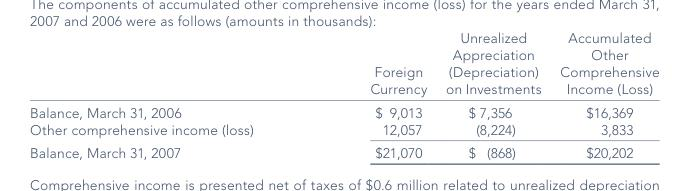table: (29, 29, 658, 160)
table column: (29, 29, 311, 160), (311, 29, 435, 160), (435, 29, 549, 160), (549, 29, 658, 160)
table column header: (29, 29, 658, 100)
table row: (29, 29, 658, 100), (29, 100, 658, 120), (29, 120, 658, 140), (29, 140, 658, 160)
